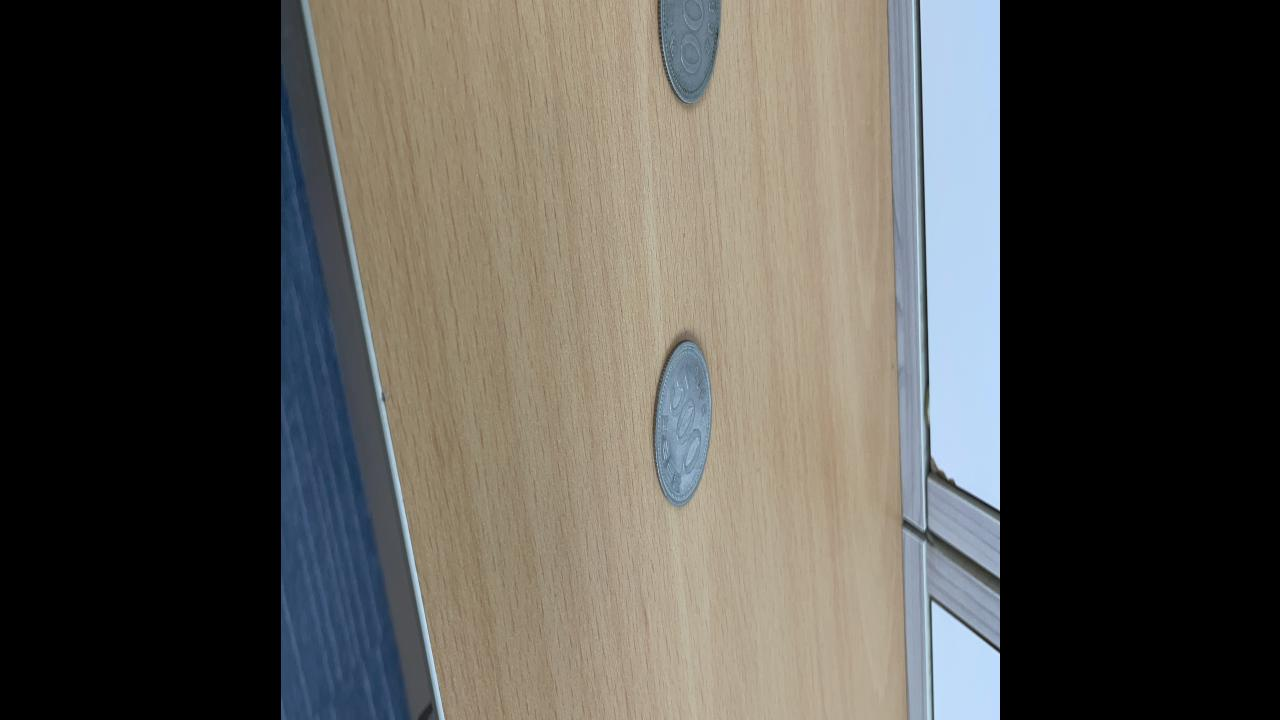coin: (651, 338, 713, 512), (655, 0, 723, 110)
